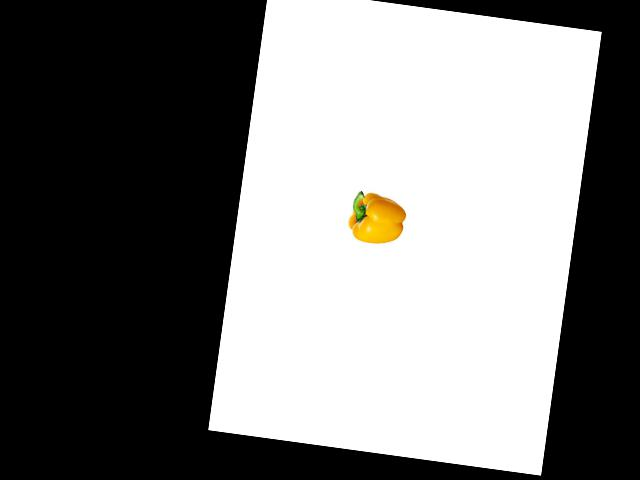bell_pepper: (340, 184, 411, 251)
